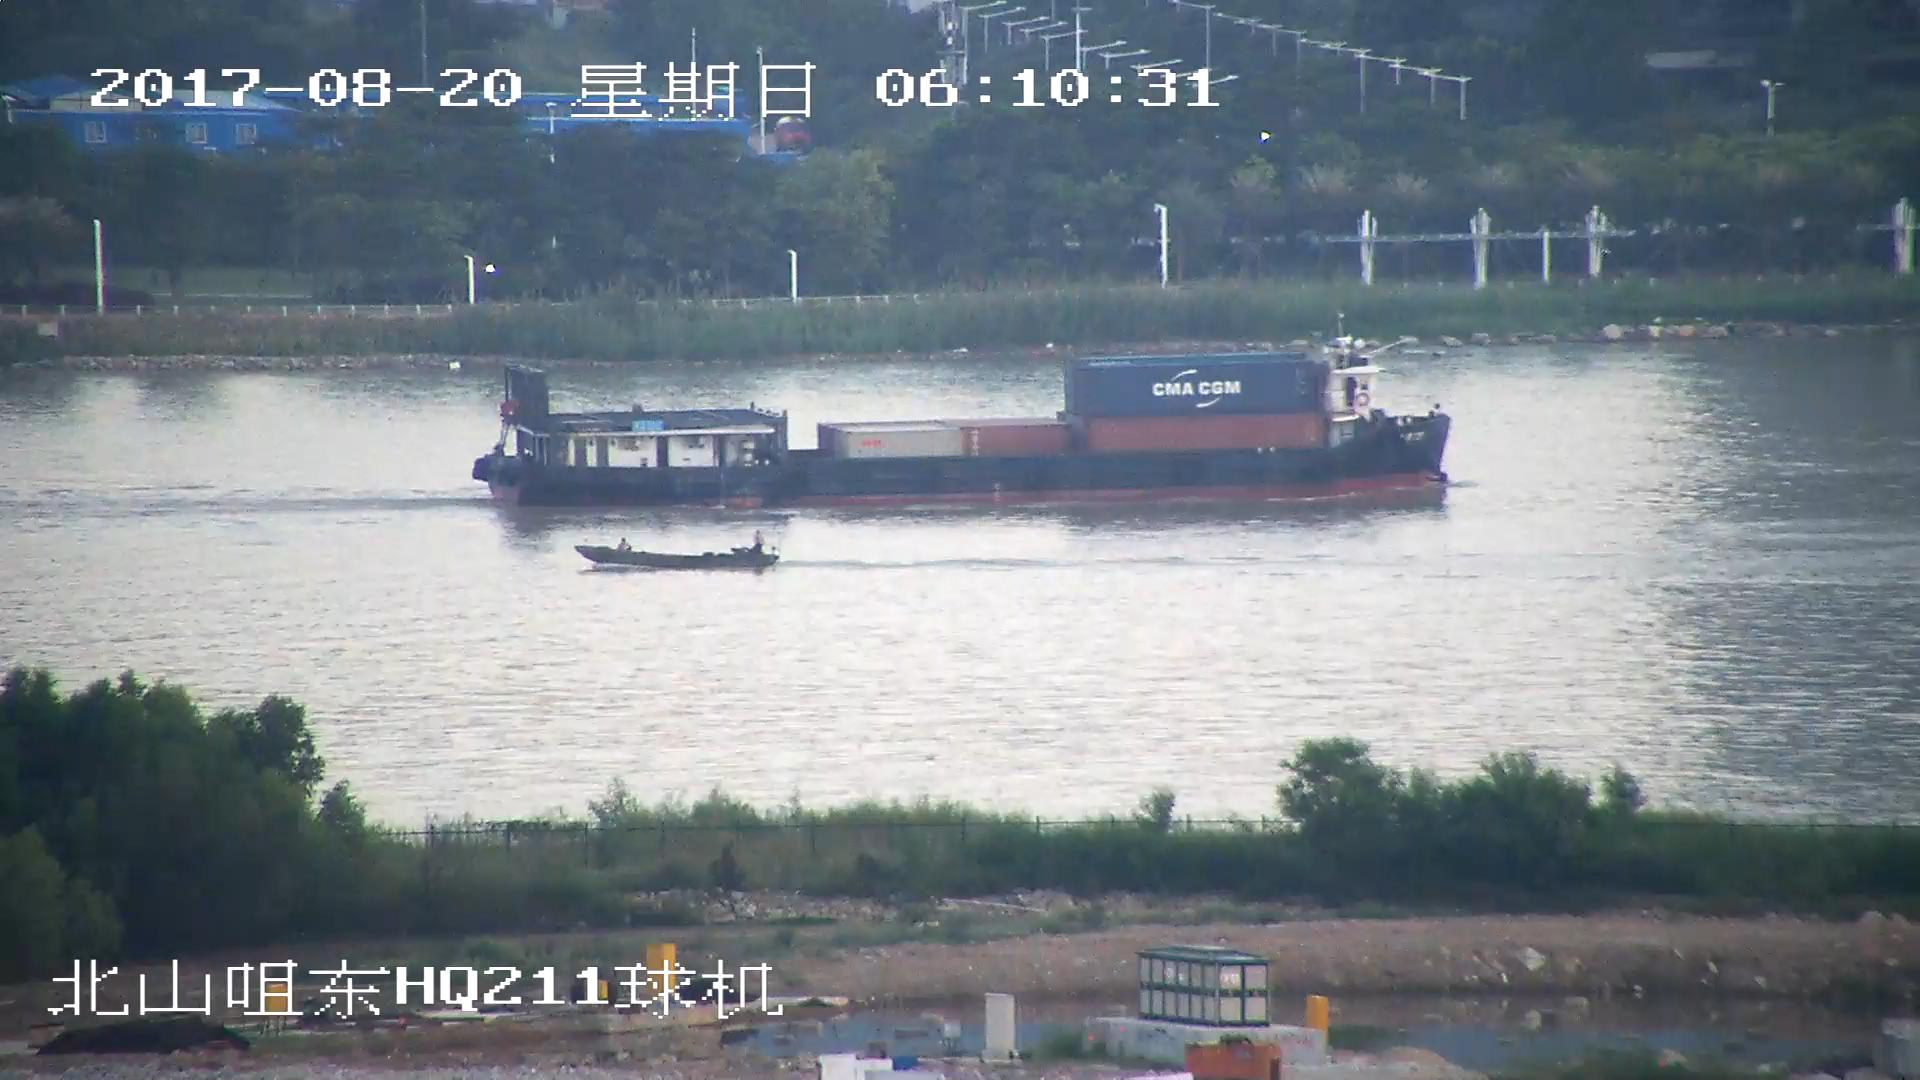container ship: (471, 327, 1458, 510)
fishing boat: (574, 531, 782, 575)
